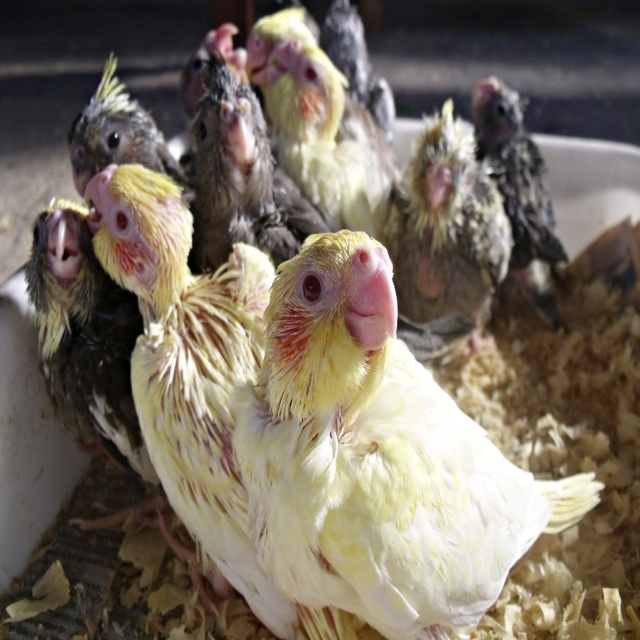Parrot: (24, 0, 605, 640)
